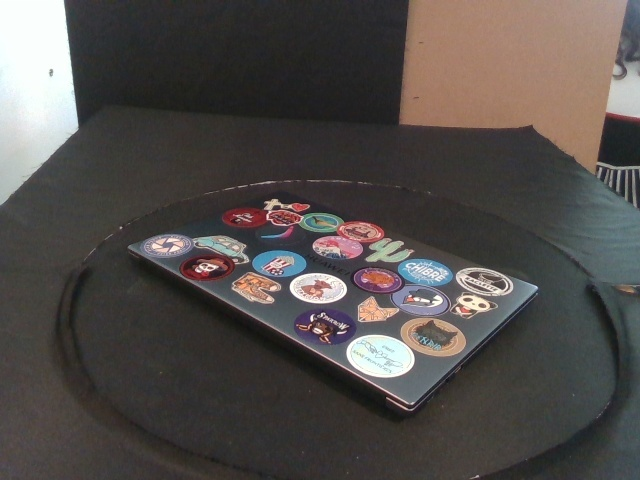laptop: (126, 189, 539, 418)
